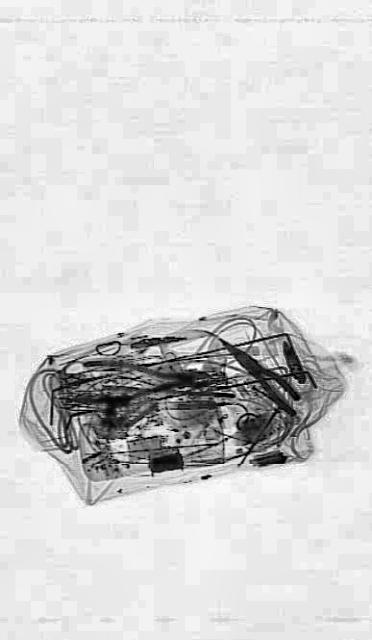Pliers: (213, 322, 301, 418), (74, 357, 210, 408)
